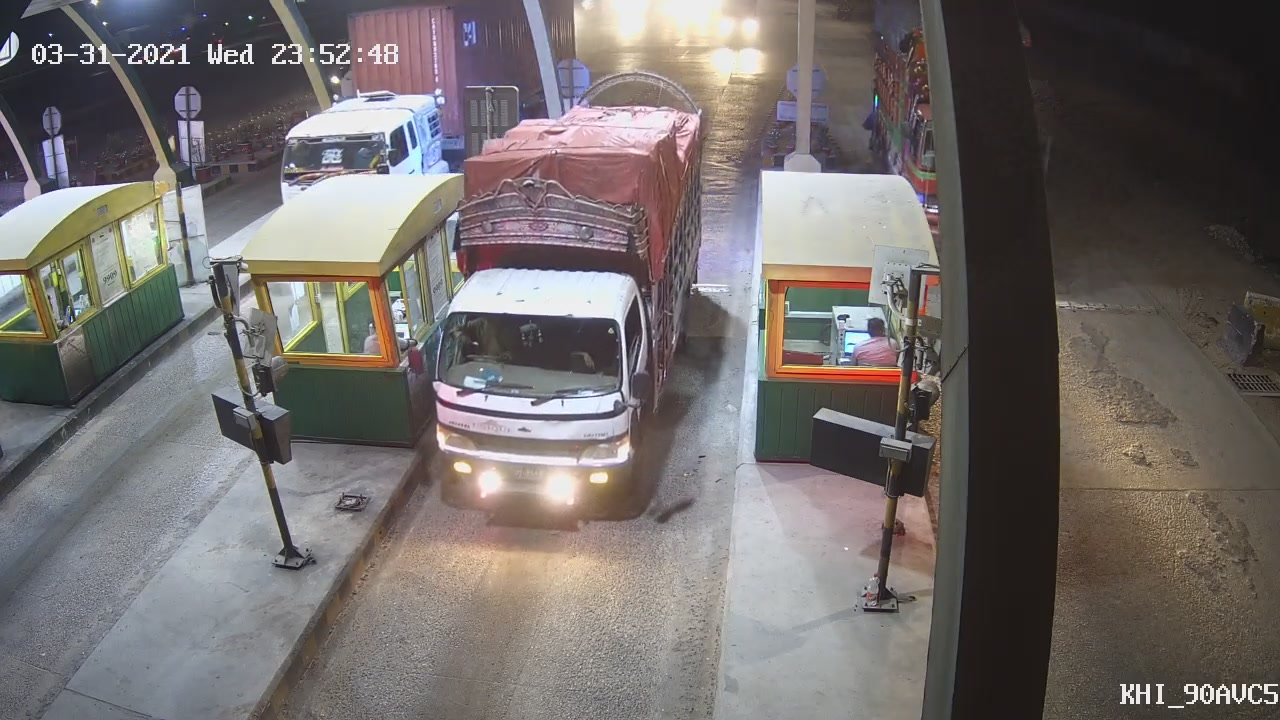F5: (406, 151, 665, 551)
